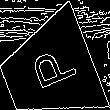P_W: (20, 44, 78, 97)
